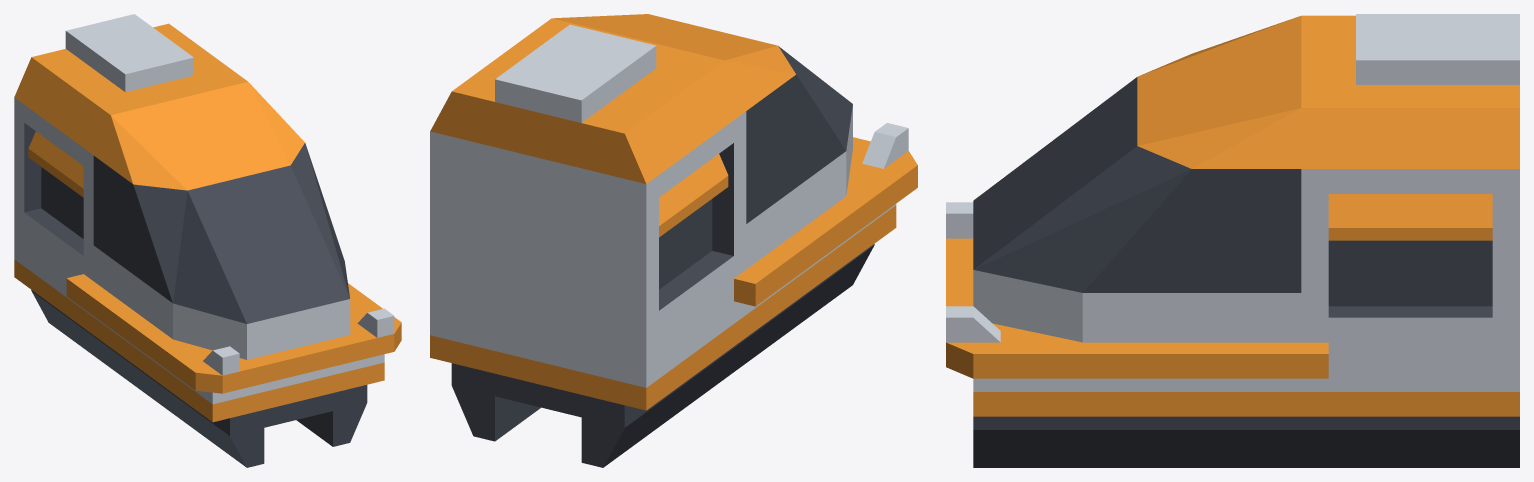
File: monorail_trainFront.dae
3 renders of one model, left to right at view 1: azimuth 30°, elevation 25°; view 2: azimuth 150°, elevation 25°; view 3: azimuth 270°, elevation 25°, orthographic. The views are drawn at different scales.
Parts seen in each view (by area): view 1: monorail_trainFront; view 2: monorail_trainFront; view 3: monorail_trainFront.
Boxes of the visible parts, left/top/right/bottom form: monorail_trainFront: left=14, top=14, right=401, bottom=467; monorail_trainFront: left=430, top=14, right=917, bottom=467; monorail_trainFront: left=946, top=14, right=1519, bottom=467.
Size of the model in its own units: 0.6 by 0.8 by 1.05.
